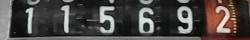digits: (98, 5, 114, 32), (214, 5, 230, 32), (176, 5, 192, 32), (138, 7, 154, 33), (60, 4, 70, 32), (24, 7, 34, 33)
